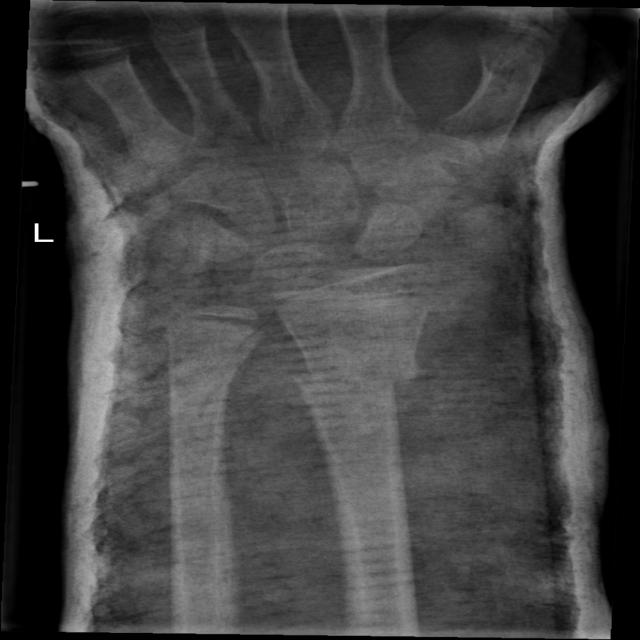radius fracture: (254, 334, 466, 504)
